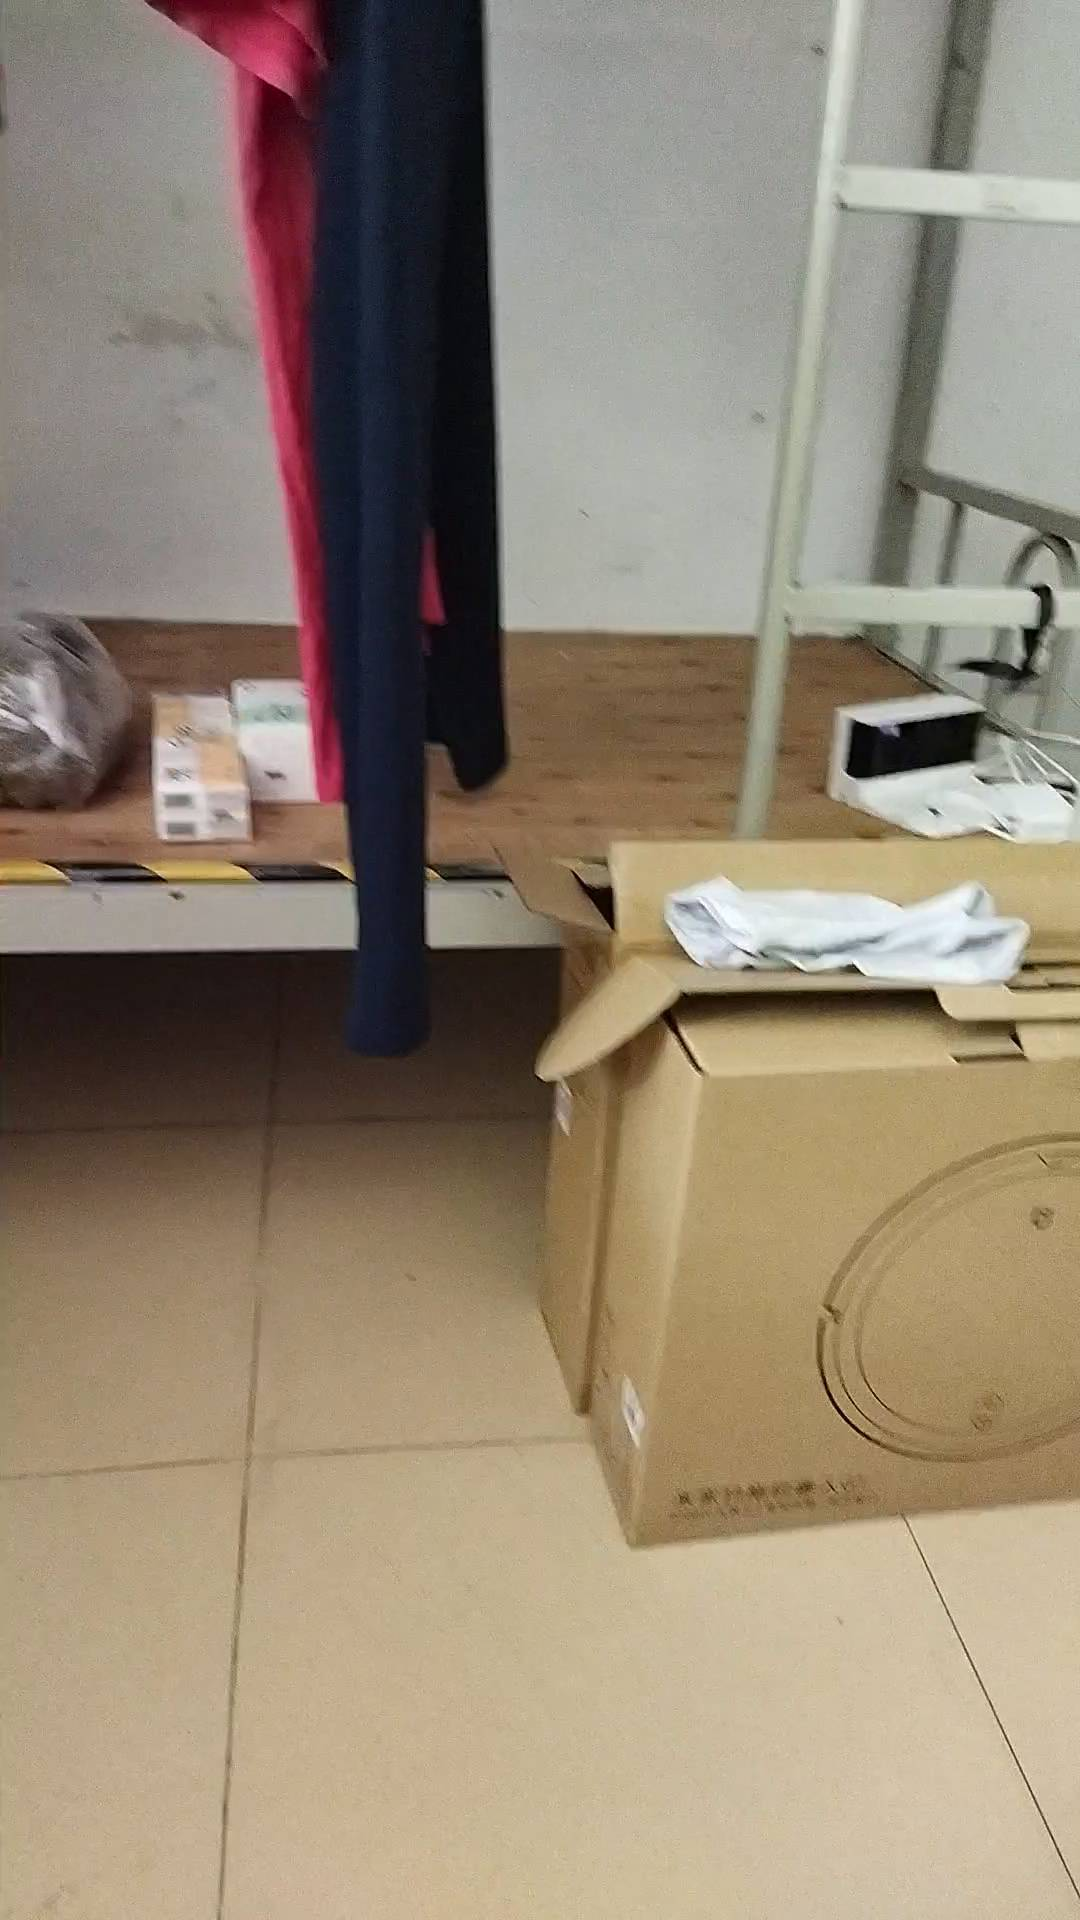recharge seat: (829, 695, 1015, 837)
